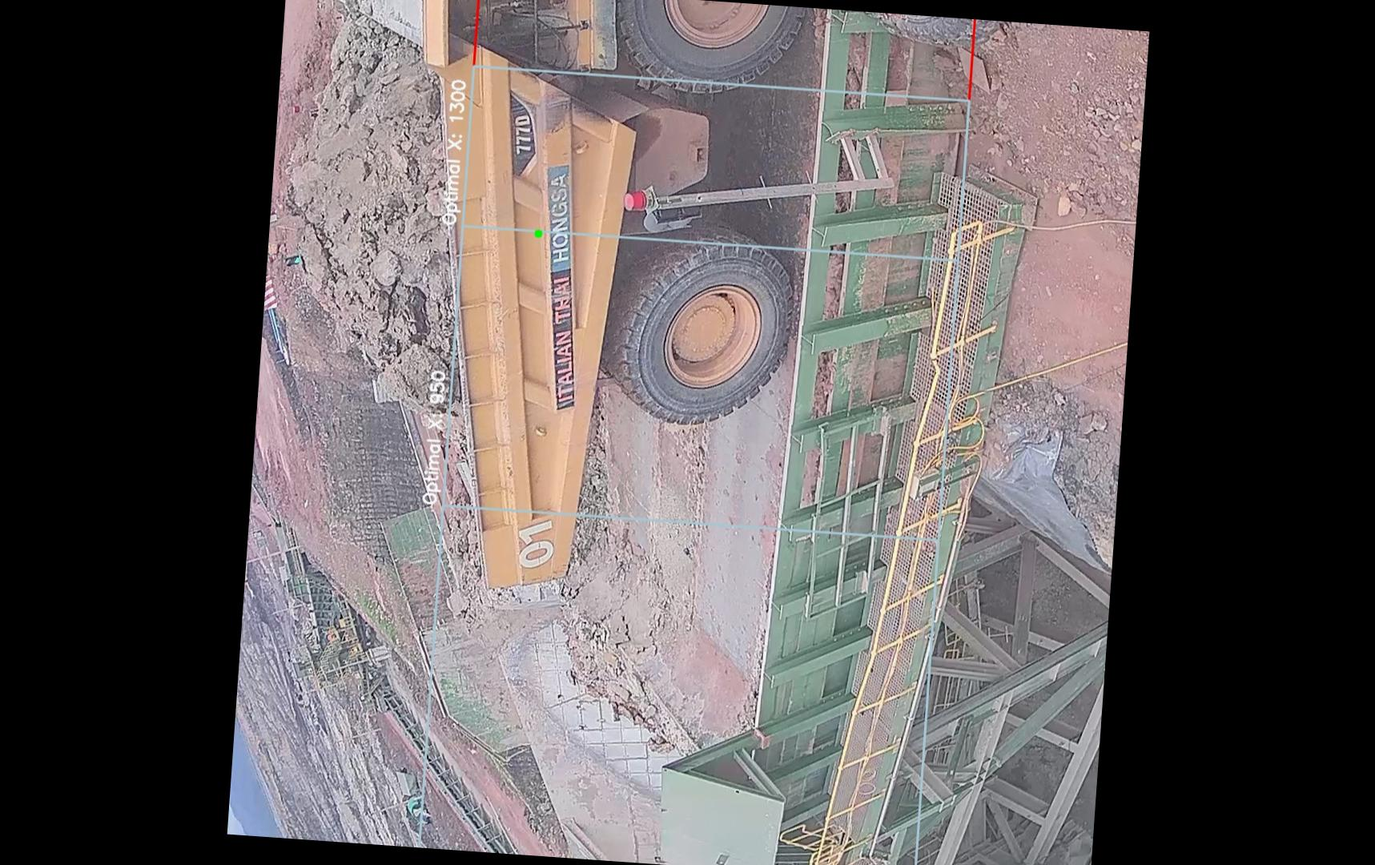company: (522, 154, 590, 416)
full_load: (274, 38, 488, 407)
mining_truck: (251, 0, 821, 614)
tail_number: (502, 498, 568, 581), (494, 91, 543, 181)
